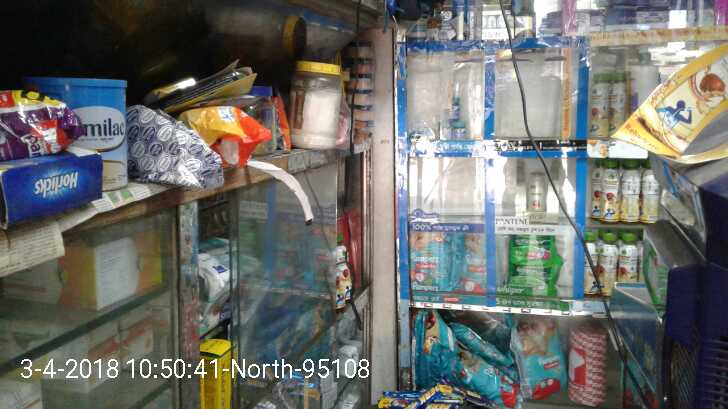vicks: (452, 118, 473, 140)
